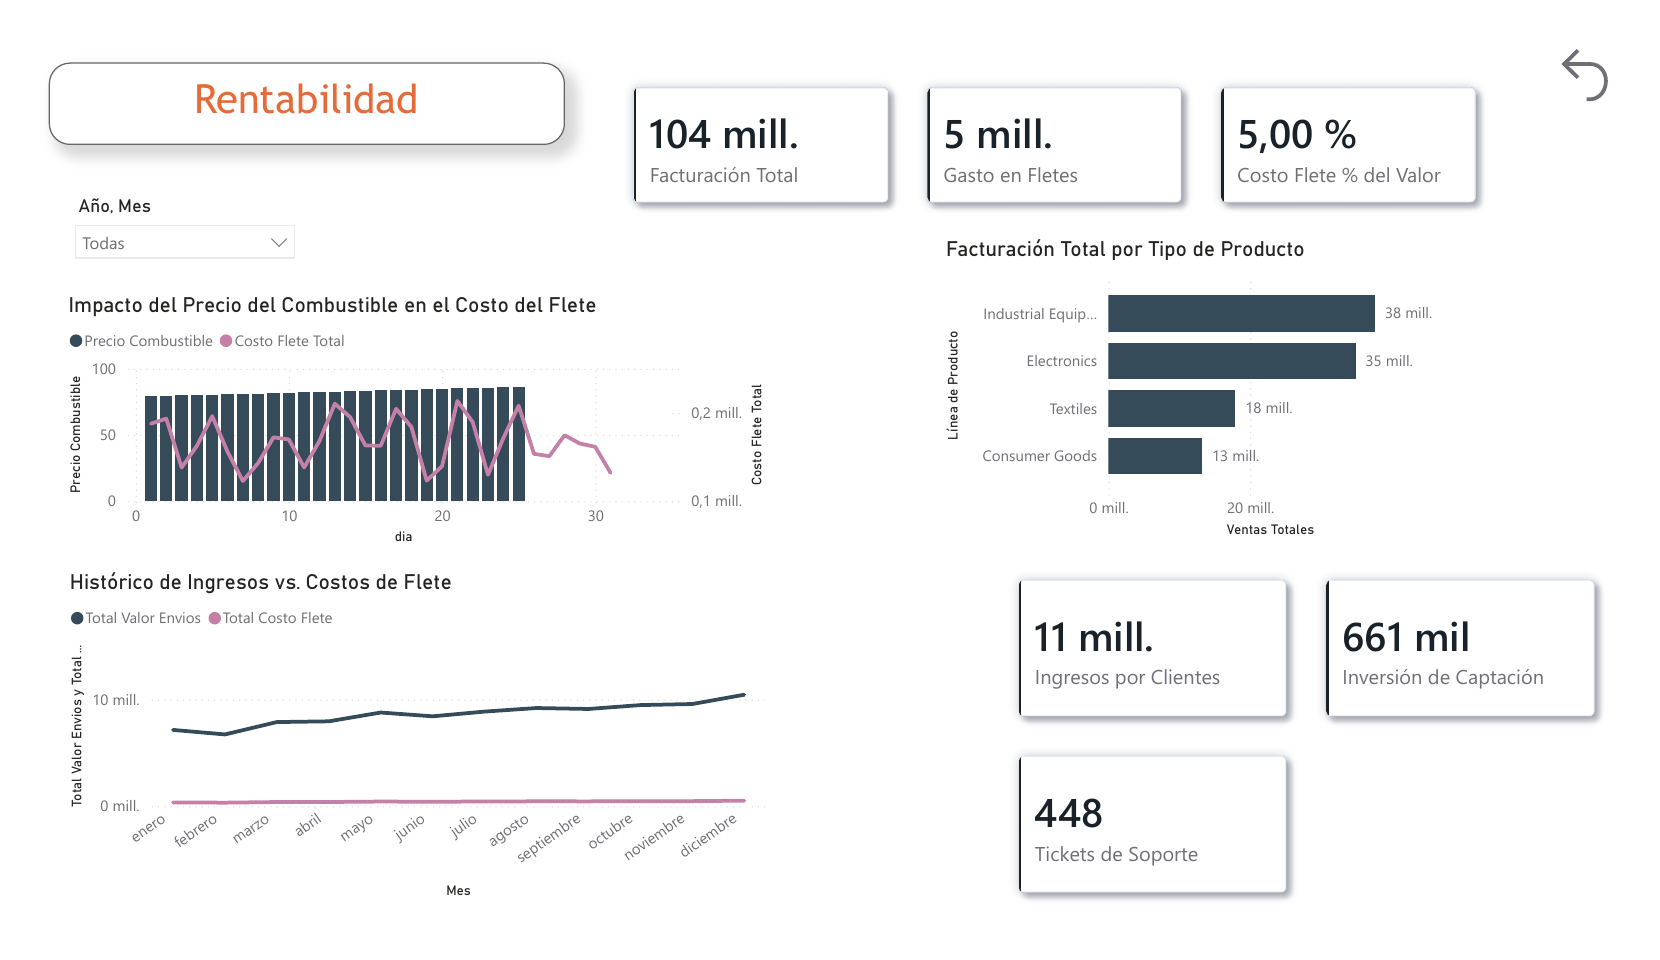

The page's visual inventory and layout, read from the dashboard file:
{"tool":"powerbi","page":{"name":"Rentabilidad","canvas":[1280,720],"ordinal":2},"visuals":[{"type":"actionButton","box":[1208,0,72,72],"z":0},{"type":"textbox","box":[15.1,26.1,413,65.9],"z":1000},{"type":"cardVisual","fields":{"Data":["_Medidas.Total Valor Envios","_Medidas.Total Costo Flete","_Medidas.Costo Flete % del Valor"]},"box":[454.3,17.1,731.4,150],"z":2000},{"type":"slicer","fields":{"Values":["calendario.Año","calendario.Mes"]},"box":[26.1,127.6,196.2,76.8],"z":3000},{"type":"barChart","title":"Facturación Total por Tipo de Producto","fields":{"Category":["shipment.product_category"],"Y":["_Medidas.Total Valor Envios"]},"box":[728.3,165.5,417.7,245.5],"z":4000},{"type":"lineClusteredColumnComboChart","title":"Impacto del Precio del Combustible en el Costo del Flete","fields":{"Category":["calendario.Date.Variación.Jerarquía de fechas.Año","calendario.Mes","calendario.dia"],"Y":["_Medidas.Precio Promedio Combustible"],"Y2":["_Medidas.Total Costo Flete"]},"box":[26.1,209.9,566.7,207.2],"z":5000},{"type":"lineChart","title":"Histórico de Ingresos vs. Costos de Flete","fields":{"Category":["calendario.Date.Variación.Jerarquía de fechas.Año","calendario.Date.Variación.Jerarquía de fechas.Mes","calendario.Date.Variación.Jerarquía de fechas.Día"],"Y":["_Medidas.Total Valor Envios","_Medidas.Total Costo Flete"]},"box":[26.7,431.7,566.7,268.3],"z":6000},{"type":"cardVisual","fields":{"Data":["Sum(customer.order_value_usd)","Sum(customer.acquisition_cost_usd)","Sum(customer.support_tickets)"]},"box":[762.2,410.9,518.1,309.2],"z":7000}]}

Visuals, with their boxes in screenshot pixels (x1, y1, x2, y2), scaled from the page's 1280x720 canvas onto the 1660x960 screenshot:
actionButton: (1567,0,1659,96)
textbox: (20,35,555,123)
cardVisual - _Medidas.Total Valor Envios x _Medidas.Total Costo Flete: (589,23,1538,223)
slicer - calendario.Año x calendario.Mes: (34,170,288,273)
"Facturación Total por Tipo de Producto" barChart: (945,221,1486,548)
"Impacto del Precio del Combustible en el Costo del Flete" lineClusteredColumnComboChart: (34,280,769,556)
"Histórico de Ingresos vs. Costos de Flete" lineChart: (35,576,770,933)
cardVisual - Sum(customer.order_value_usd) x Sum(customer.acquisition_cost_usd): (988,548,1659,959)
